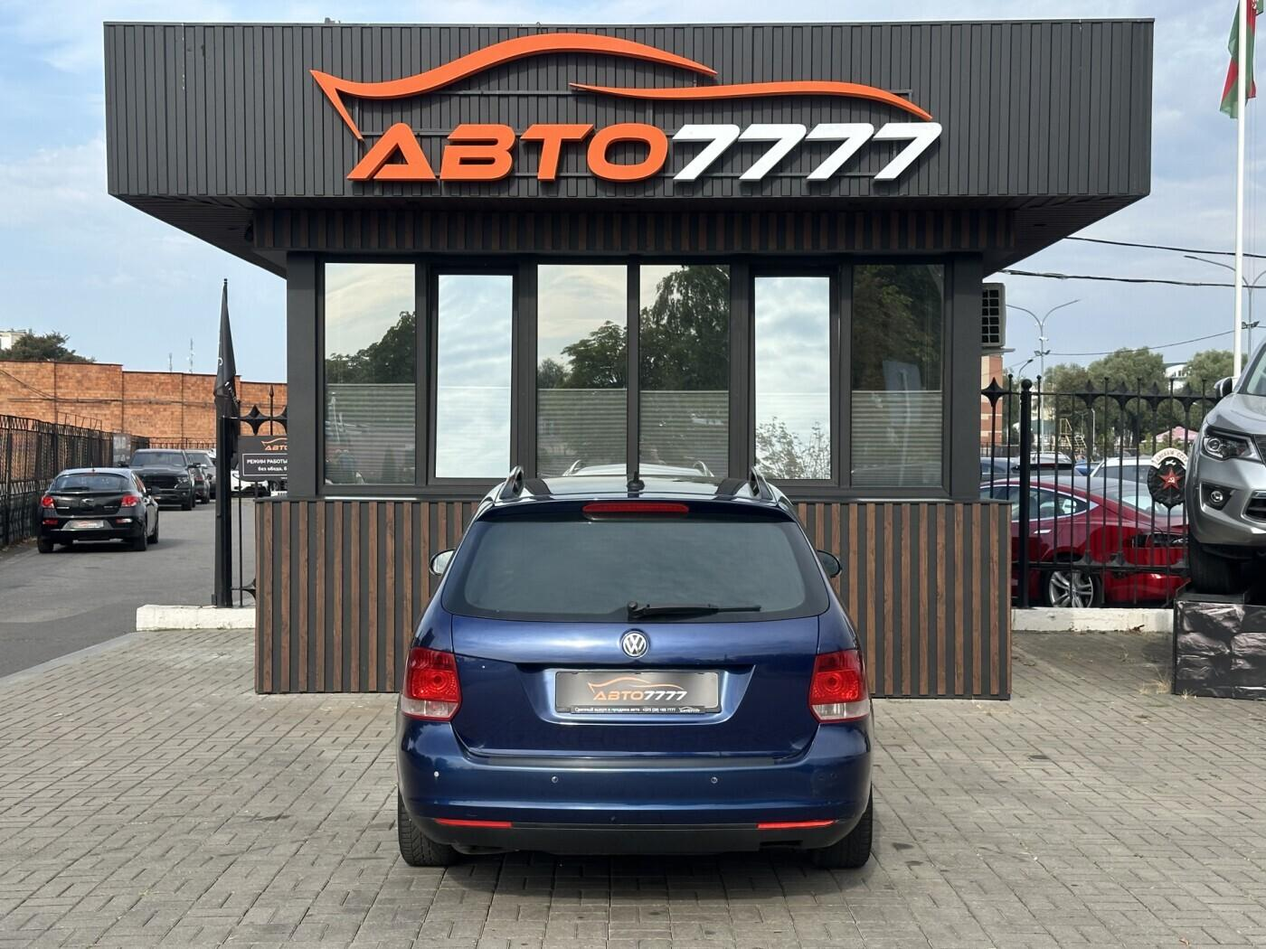Golf_2003-2009: (392, 479, 880, 896)
